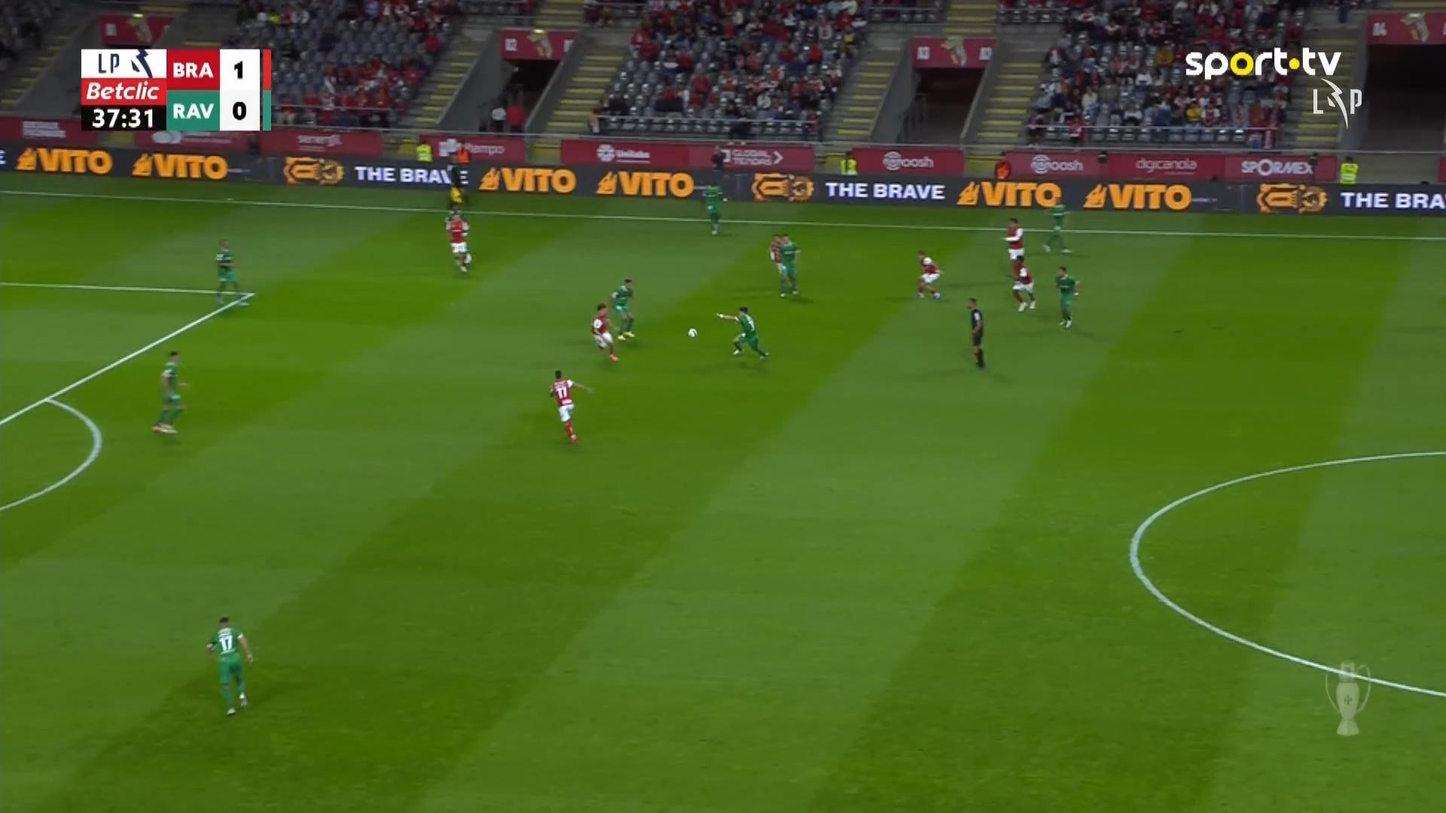ball: (687, 327, 697, 337)
player: (205, 615, 254, 716), (548, 368, 592, 443), (151, 349, 189, 434), (715, 305, 768, 360), (444, 210, 472, 273), (214, 238, 240, 305), (590, 302, 619, 362), (1054, 265, 1081, 329), (609, 276, 636, 340), (1042, 198, 1072, 253), (768, 233, 791, 297), (1011, 254, 1036, 312), (779, 233, 801, 296), (915, 249, 942, 300), (1003, 216, 1025, 276), (701, 181, 725, 235)
referee: (966, 296, 986, 369), (447, 161, 470, 212)
